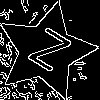Z: (21, 26, 73, 82)
